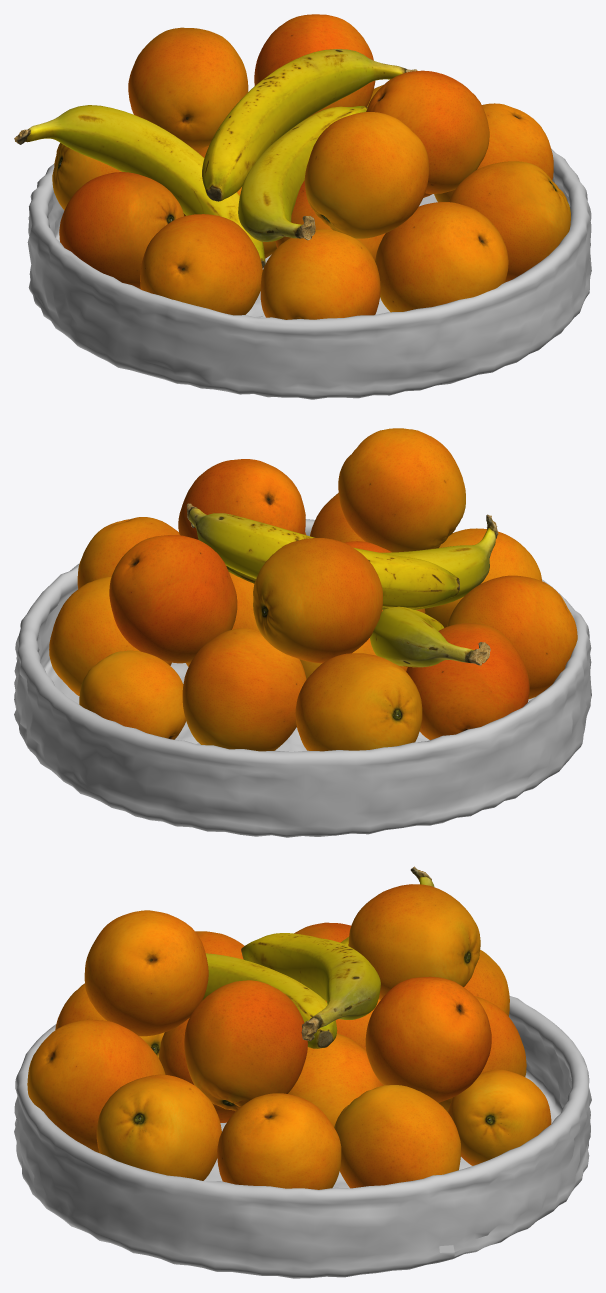
3 views of the same model, one above another, from view 1: azimuth 30°, elevation 25°; view 2: azimuth 150°, elevation 25°; view 3: azimuth 270°, elevation 25° (orthographic). The views are drawn at different scales.
Visible parts, largest first — view 1: CyTokry; view 2: CyTokry; view 3: CyTokry.
Part boxes in pixels (x1,y1,x2,y2): CyTokry: (14, 14, 591, 399); CyTokry: (14, 428, 591, 837); CyTokry: (14, 866, 591, 1278).
Bounding box in the file's own units: 0.312 × 0.1398 × 0.3106.
